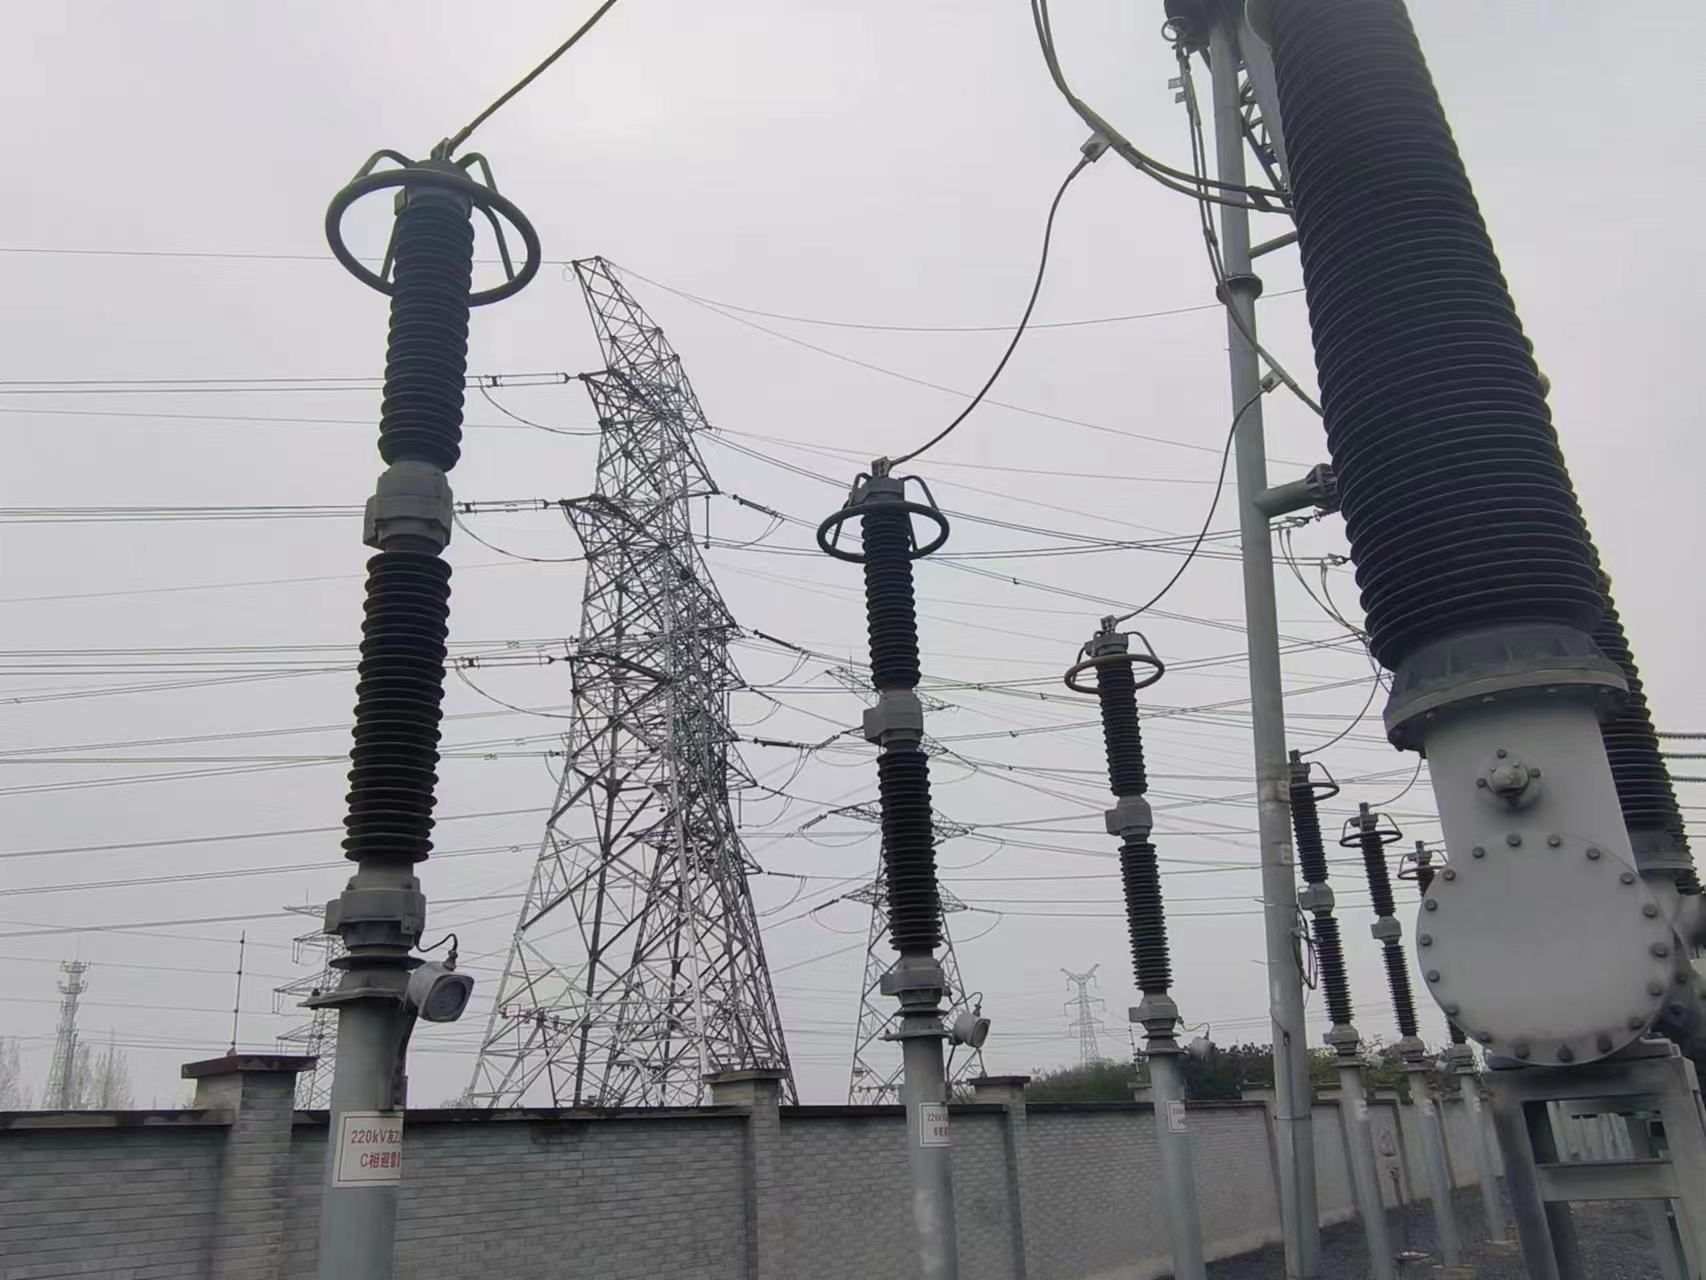Arrester: (315, 147, 543, 885), (815, 458, 953, 955), (1059, 623, 1180, 998)
